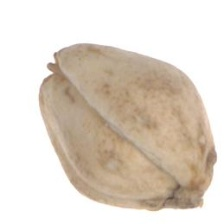L1: (161, 181, 206, 210), (38, 46, 66, 89)
L2: (38, 42, 217, 212)
